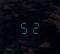five: (19, 20, 29, 34)
two: (30, 19, 40, 33)
